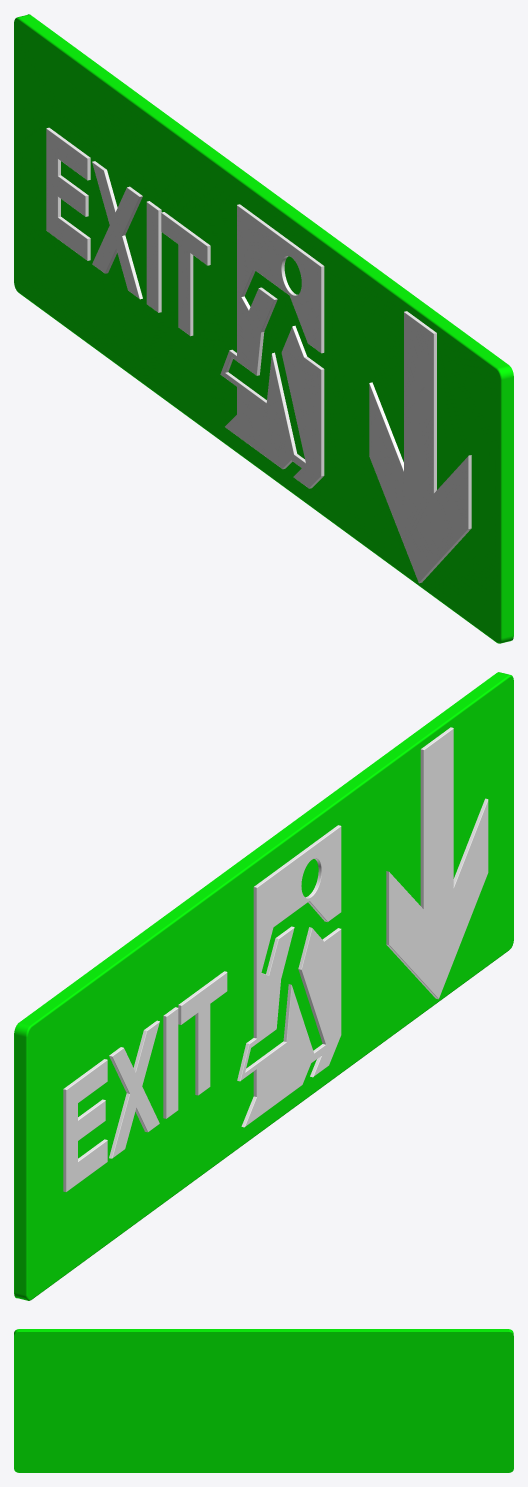
The model's file is ex sign.fbx.
The picture shows the model from 3 angles, top to bottom: view 1: azimuth 30°, elevation 25°; view 2: azimuth 150°, elevation 25°; view 3: azimuth 270°, elevation 25°; orthographic projection. The views are drawn at different scales.
Visible parts, largest first — view 1: imagetostl_mesh0, imagetostl_mesh2, imagetostl_mesh1, imagetostl_mesh6, imagetostl_mesh5, imagetostl_mesh3, imagetostl_mesh4; view 2: imagetostl_mesh0, imagetostl_mesh2, imagetostl_mesh1, imagetostl_mesh6, imagetostl_mesh5, imagetostl_mesh3, imagetostl_mesh4; view 3: imagetostl_mesh0.
Part boxes in pixels (box(x1,y1,x2,y2)): imagetostl_mesh0: box(14, 14, 513, 643); imagetostl_mesh2: box(220, 204, 324, 488); imagetostl_mesh1: box(369, 311, 471, 583); imagetostl_mesh6: box(46, 127, 90, 260); imagetostl_mesh5: box(92, 161, 142, 299); imagetostl_mesh3: box(161, 212, 210, 336); imagetostl_mesh4: box(146, 201, 161, 312); imagetostl_mesh0: box(14, 672, 513, 1300); imagetostl_mesh2: box(237, 825, 341, 1127); imagetostl_mesh1: box(386, 727, 488, 999); imagetostl_mesh6: box(63, 1059, 107, 1191); imagetostl_mesh5: box(109, 1020, 159, 1158); imagetostl_mesh3: box(178, 971, 227, 1095); imagetostl_mesh4: box(163, 1007, 178, 1118); imagetostl_mesh0: box(14, 1329, 513, 1472).
Size of the model in its own units: 999 by 16257 by 52288.
